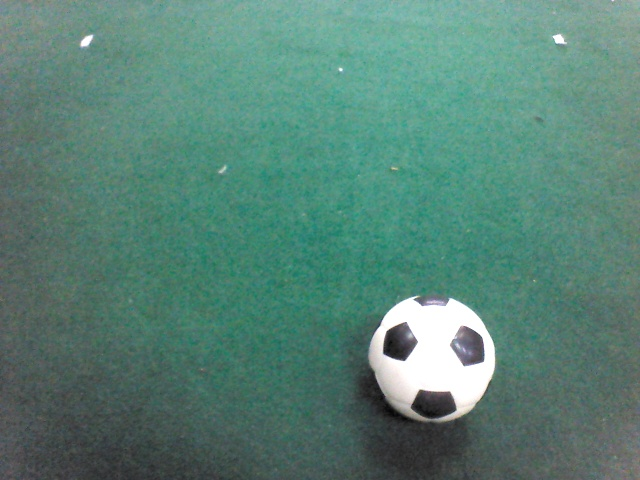ball: (367, 295, 497, 427)
